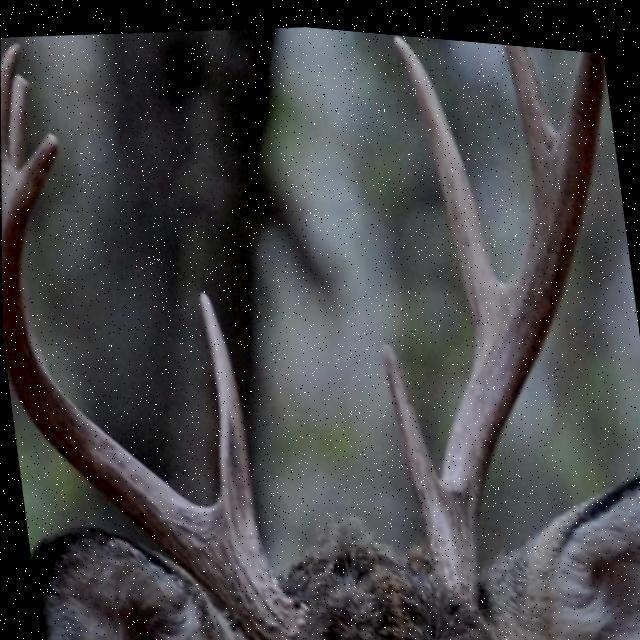L-F: (1, 129, 306, 640)
L-G1: (197, 285, 256, 525)
L-G3: (0, 39, 21, 201)
R-F: (421, 40, 605, 602)
R-G1: (379, 335, 439, 517)
R-G2: (390, 27, 501, 323)
R-G3: (502, 35, 555, 182)
